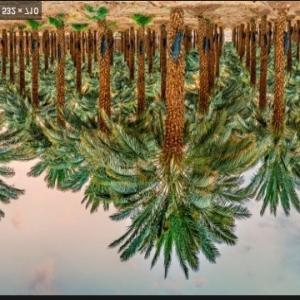palm tree: (0, 8, 299, 281)
